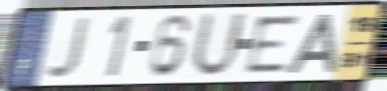1: (106, 14, 134, 80)
6: (147, 13, 192, 80)
A: (285, 12, 338, 75)
E: (244, 12, 302, 76)
J: (43, 15, 93, 81)
U: (188, 11, 249, 80)
